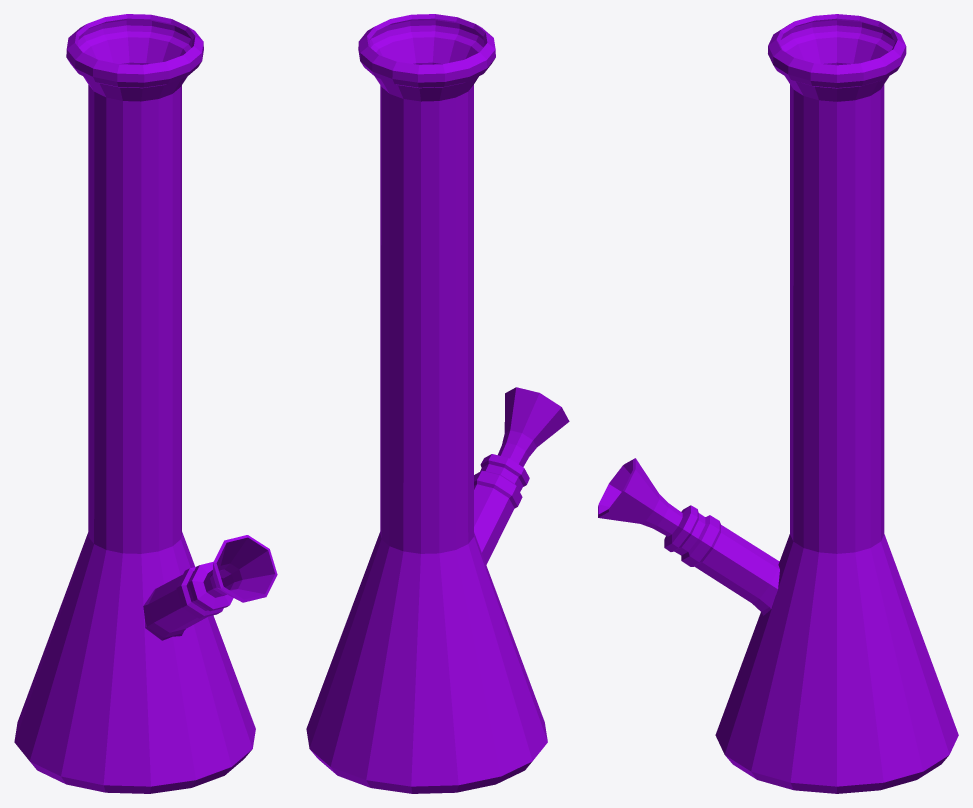
Rendered from Bond.fbx.
3 views of the same model, side by side, from view 1: azimuth 30°, elevation 25°; view 2: azimuth 150°, elevation 25°; view 3: azimuth 270°, elevation 25° (orthographic).
Visible parts, largest first — view 1: Bond; view 2: Bond; view 3: Bond.
Part boxes in pixels (x1,y1,x2,y2): Bond: (14,14,277,793); Bond: (306,14,569,793); Bond: (598,14,958,793).
Size of the model in its own units: 23.42 by 75.08 by 34.71.
